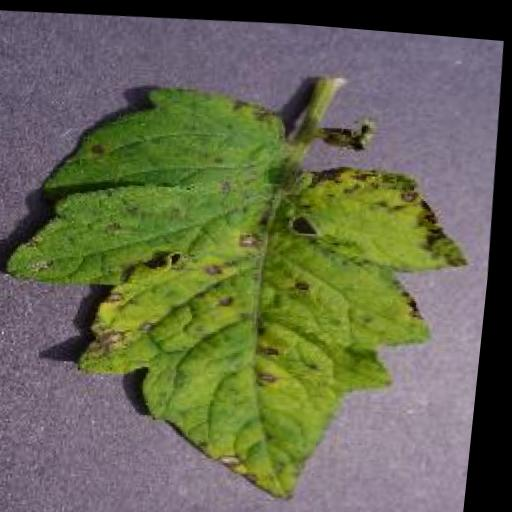Septoria: (0, 65, 489, 512)
